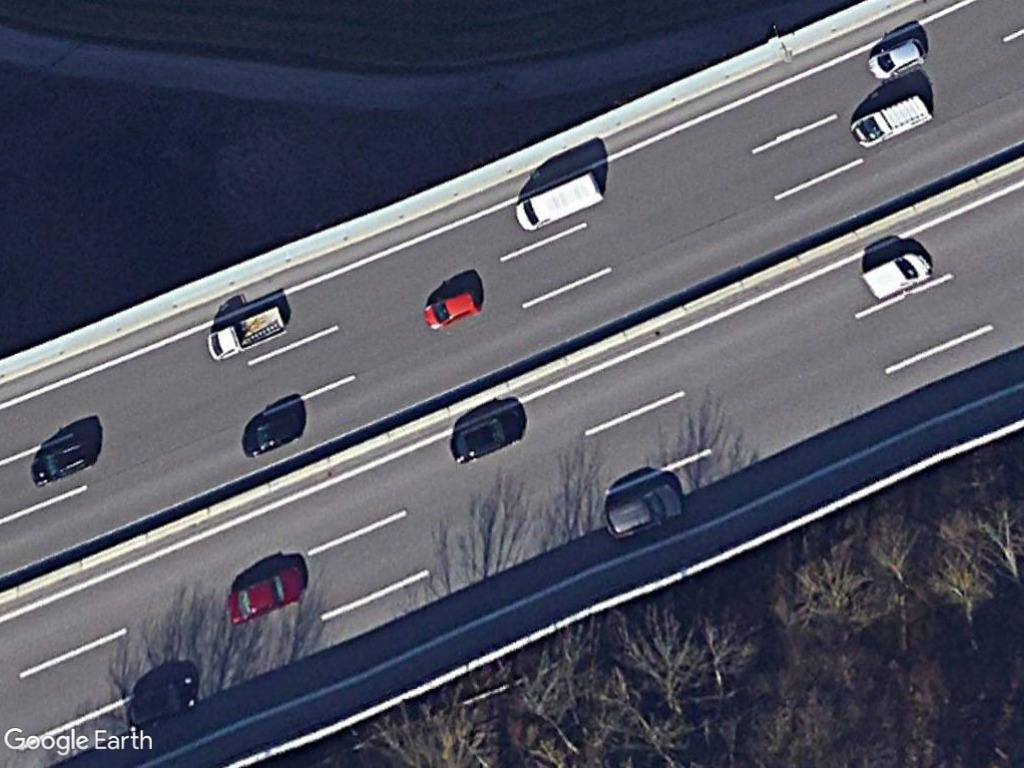car: (223, 561, 309, 628), (601, 481, 686, 540), (866, 36, 928, 82), (421, 288, 484, 332)
others: (206, 300, 289, 364), (848, 93, 931, 149)
van: (513, 166, 605, 235), (860, 250, 931, 300)
